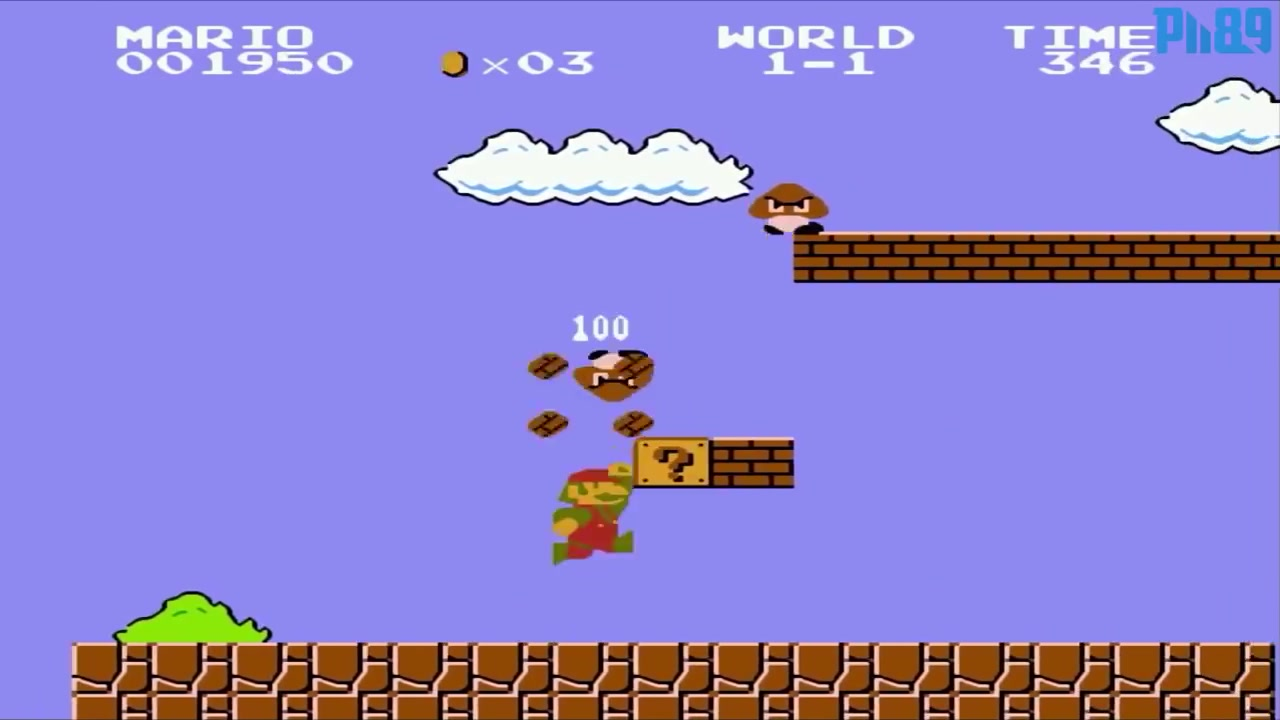mario: (549, 448, 644, 569)
